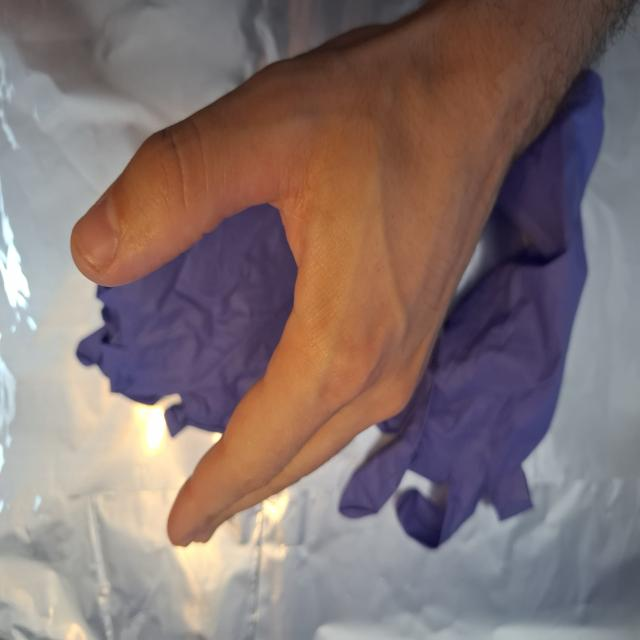glove_off: (68, 1, 514, 550)
